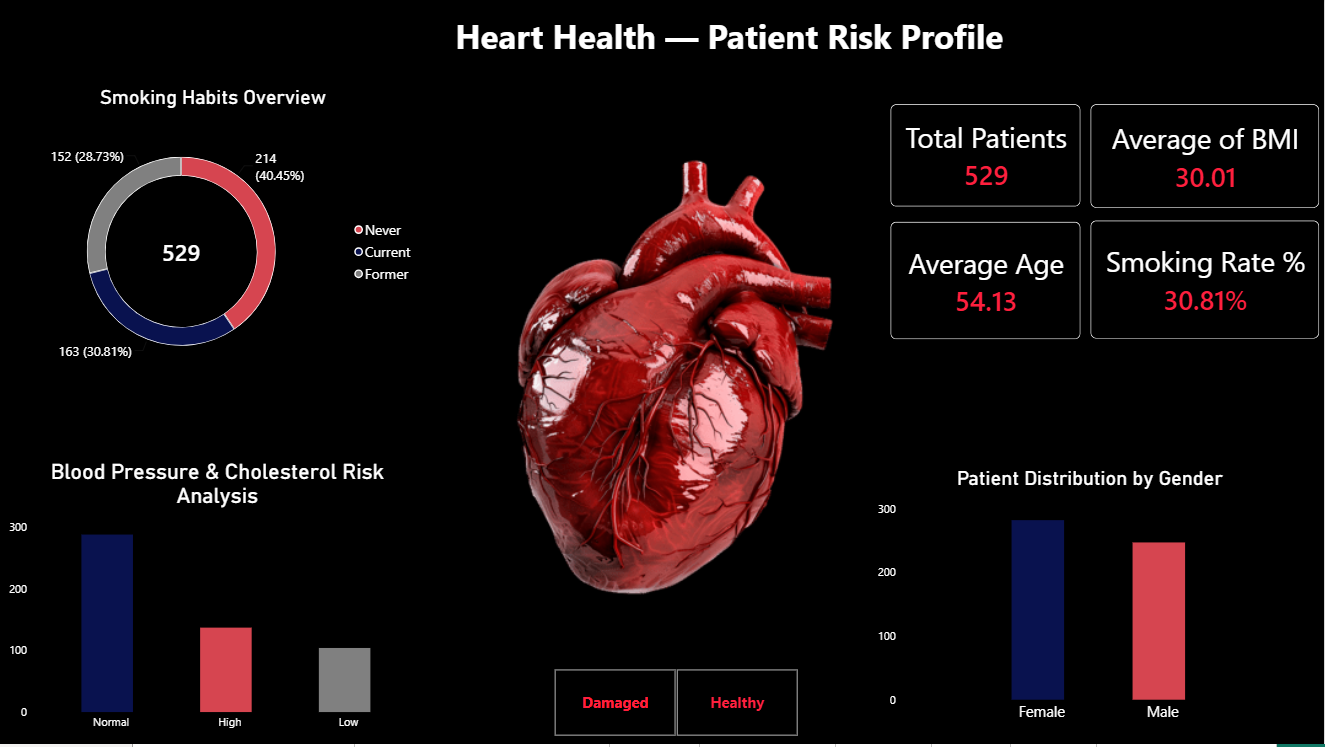

The dashboard page shown, as its layout file describes it:
{"tool":"powerbi","page":{"name":"Heart","canvas":[1920,1080],"ordinal":2},"visuals":[{"type":"image","box":[602.6,229.8,689.5,640.6],"z":0},{"type":"donutChart","title":"Smoking Habits Overview","fields":{"Category":["HealthData.Smoking_Status"],"Y":["CountNonNull(HealthData.Patient_ID)"]},"box":[0,112.2,622.5,461.5],"z":1},{"type":"clusteredColumnChart","title":"Patient Distribution by Gender","fields":{"Category":["HealthData.Gender"],"Y":["CountNonNull(HealthData.Patient_ID)"]},"box":[1257.7,664.1,646,405.4],"z":2},{"type":"clusteredColumnChart","title":"Blood Pressure & Cholesterol Risk Analysis","fields":{"Category":["HealthData.BP_Risk"],"Y":["CountNonNull(HealthData.Patient_ID)"]},"box":[0,653.3,635.2,427.1],"z":3},{"type":"textbox","box":[197.3,21.7,1722.8,65.1],"z":4},{"type":"cardVisual","fields":{"Data":["HealthData.Total Patients"]},"box":[1292.1,153.8,275.1,148.4],"z":5},{"type":"cardVisual","fields":{"Data":["HealthData.Average Age"]},"box":[1292.1,323.9,275.1,170.1],"z":6},{"type":"cardVisual","fields":{"Data":["Avg(HealthData.BMI)"]},"box":[1581.6,153.8,331.2,150.2],"z":7},{"type":"cardVisual","fields":{"Data":["HealthData.Smoking Rate %"]},"box":[1581.6,322.1,331.2,171.9],"z":8},{"type":"slicer","fields":{"Values":["HealthData.Organ_Condition"]},"box":[785.4,970,390.9,99.5],"z":9}]}

Visuals, with their boxes in screenshot pixels (x1, y1, x2, y2), scaled from the page's 1920x1080 canvas onto the 1325x747 screenshot:
image: region(416, 159, 892, 602)
"Smoking Habits Overview" donutChart: region(0, 78, 430, 397)
"Patient Distribution by Gender" clusteredColumnChart: region(868, 459, 1314, 740)
"Blood Pressure & Cholesterol Risk Analysis" clusteredColumnChart: region(0, 452, 438, 746)
textbox: region(136, 15, 1324, 60)
cardVisual - HealthData.Total Patients: region(892, 106, 1082, 209)
cardVisual - HealthData.Average Age: region(892, 224, 1082, 342)
cardVisual - Avg(HealthData.BMI): region(1091, 106, 1320, 210)
cardVisual - HealthData.Smoking Rate %: region(1091, 223, 1320, 342)
slicer - HealthData.Organ_Condition: region(542, 671, 812, 740)
